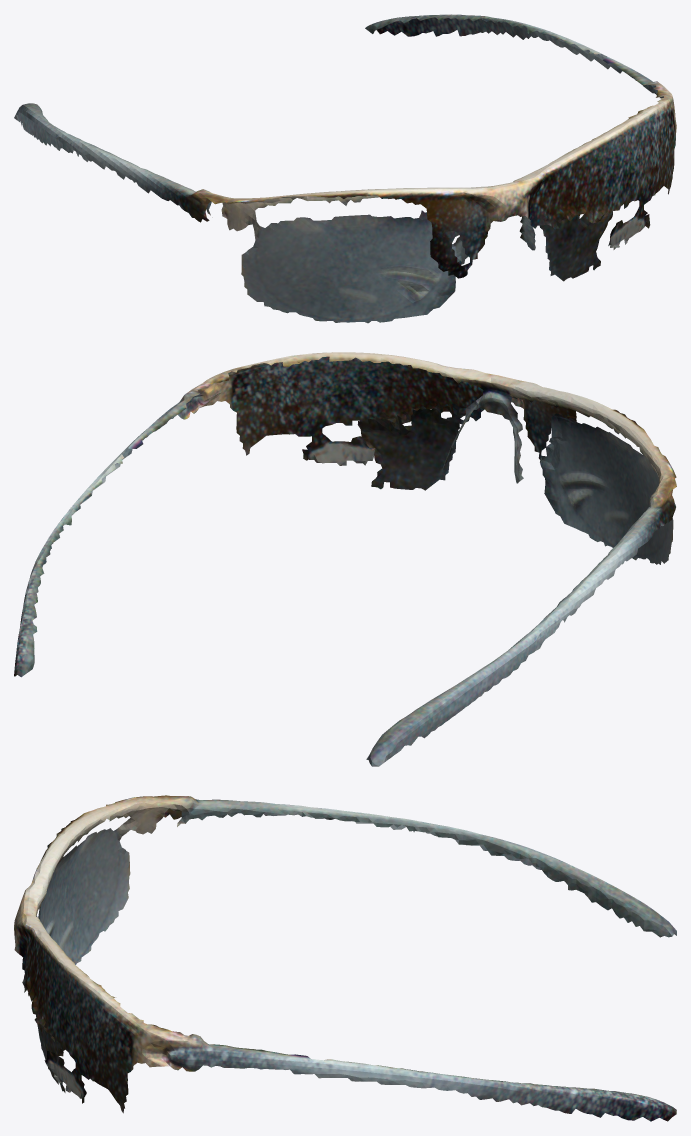
The model's file is scan_align.obj.
3 views of the same model, one above another, from view 1: azimuth 30°, elevation 25°; view 2: azimuth 150°, elevation 25°; view 3: azimuth 270°, elevation 25° (orthographic). The views are drawn at different scales.
Bounding box in the file's own units: 0.1429 × 0.0377 × 0.1602.
Materials: 1 (1 with a texture image).
